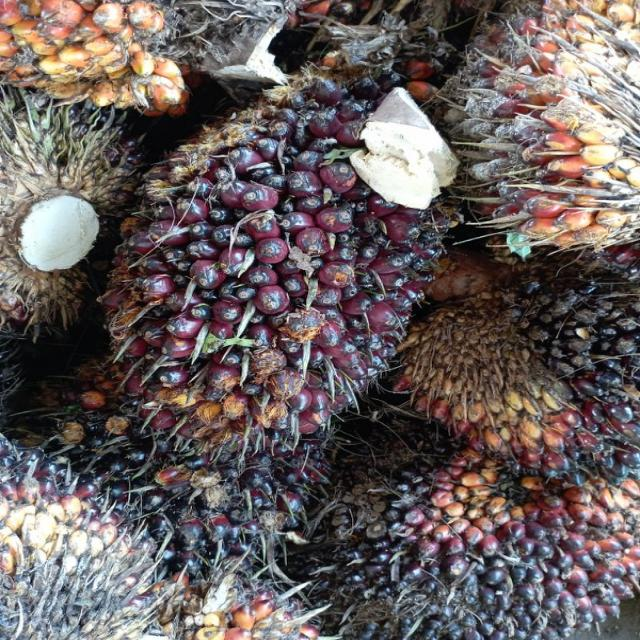fraksi 1: (114, 45, 442, 429), (320, 440, 640, 640)
